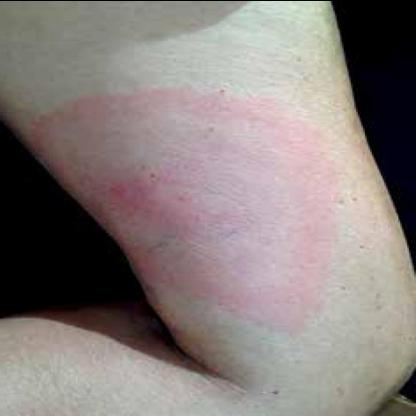Tick: (34, 84, 346, 334)
